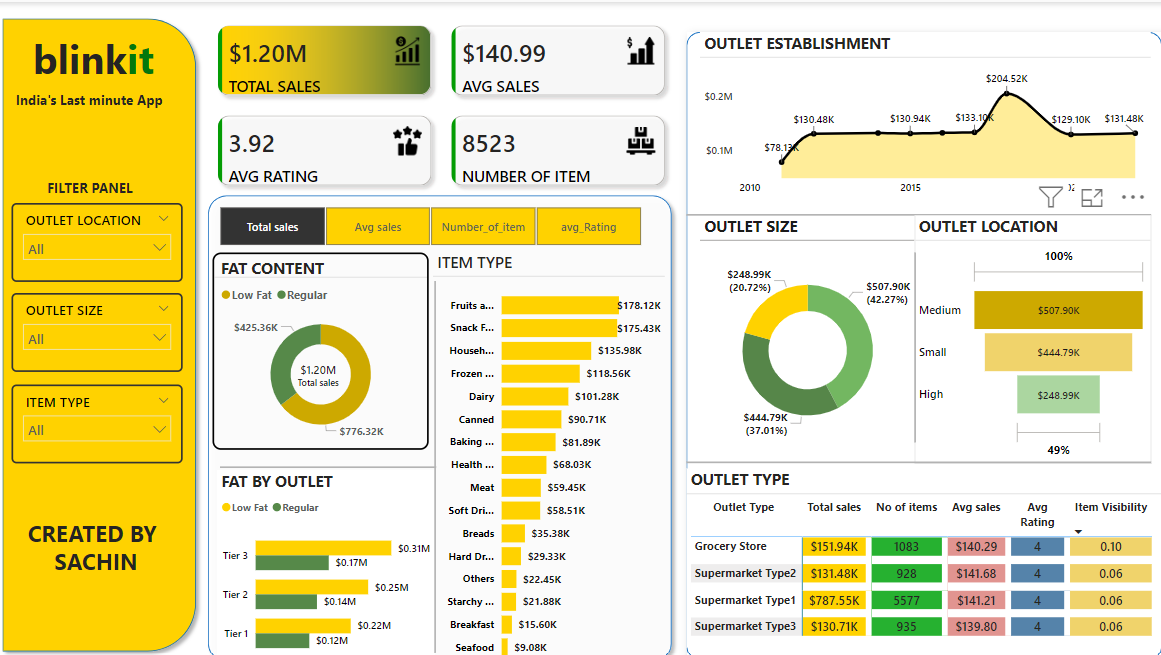

The page's visual inventory and layout, read from the dashboard file:
{"tool":"powerbi","page":{"name":"Page 1","canvas":[1400,800],"ordinal":0},"visuals":[{"type":"textbox","box":[10,0,280,280],"z":0},{"type":"shape","box":[0,10.8,250.1,777.2],"z":1000},{"type":"textbox","box":[10.5,28.1,214,75],"z":2000},{"type":"textbox","box":[19.3,100,210.5,45.6],"z":3000},{"type":"cardVisual","fields":{"Data":["BlinkIT Grocery Data.Total sales","BlinkIT Grocery Data.Avg sales","BlinkIT Grocery Data.avg_Rating","BlinkIT Grocery Data.Number_of_item"]},"box":[250,11.1,570.4,227.8],"z":4000},{"type":"shape","box":[246.3,222.2,574.1,577.8],"z":5000},{"type":"donutChart","title":"FAT CONTENT","fields":{"Y":["BlinkIT Grocery Data.Total sales"],"Category":["BlinkIT Grocery Data.Item Fat Content"]},"box":[261.4,300,259.6,236.8],"z":6000},{"type":"slicer","fields":{"Values":["Parameter.Parameter"]},"box":[244.4,238.9,553.7,59.3],"z":7000},{"type":"clusteredBarChart","title":"ITEM TYPE","fields":{"Y":["BlinkIT Grocery Data.Total sales"],"Category":["BlinkIT Grocery Data.Item Type"]},"box":[525.9,298.1,277.8,501.9],"z":8000},{"type":"clusteredBarChart","title":"FAT BY OUTLET","fields":{"Y":["BlinkIT Grocery Data.Total sales"],"Category":["BlinkIT Grocery Data.Outlet Location Type"],"Series":["BlinkIT Grocery Data.Item Fat Content"]},"box":[266.1,561,261,239],"z":9000},{"type":"shape","box":[269.5,532.2,259.3,50.8],"z":10000},{"type":"shape","box":[501.9,335.2,51.9,446.3],"z":11000},{"type":"shape","box":[829.6,35.2,570.4,753.7],"z":12000},{"type":"lineChart","title":"OUTLET ESTABLISHMENT","fields":{"Category":["BlinkIT Grocery Data.Outlet Establishment Year"],"Y":["BlinkIT Grocery Data.Total sales"]},"box":[846.3,35.2,540.7,203.7],"z":13000},{"type":"shape","box":[829.6,229.6,557.4,50],"z":14000},{"type":"donutChart","title":"OUTLET SIZE","fields":{"Category":["BlinkIT Grocery Data.Outlet Size"],"Y":["BlinkIT Grocery Data.Total sales"]},"box":[845.8,255.9,257.6,293.2],"z":15000},{"type":"funnel","title":"OUTLET LOCATION","fields":{"Category":["BlinkIT Grocery Data.Outlet Size"],"Y":["BlinkIT Grocery Data.Total sales"]},"box":[1103.7,255.6,283.3,298.1],"z":16000},{"type":"shape","box":[829.6,527.8,557.4,50],"z":17000},{"type":"pivotTable","title":"OUTLET TYPE","fields":{"Rows":["BlinkIT Grocery Data.Outlet Type"],"Values":["BlinkIT Grocery Data.Total sales","BlinkIT Grocery Data.Number_of_item","BlinkIT Grocery Data.Avg sales","BlinkIT Grocery Data.avg_Rating","Avg(BlinkIT Grocery Data.Item Visibility)"]},"box":[829.6,559.3,570.4,214.8],"z":18000},{"type":"shape","box":[1077.8,300,51.9,227.8],"z":19000},{"type":"cardVisual","fields":{"Data":["BlinkIT Grocery Data.Total sales"]},"box":[326.3,414,124.6,59.6],"z":20000},{"type":"slicer","fields":{"Values":["BlinkIT Grocery Data.Outlet Location Type"]},"box":[19.3,240.4,205.3,94.7],"z":21000},{"type":"slicer","fields":{"Values":["BlinkIT Grocery Data.Outlet Size"]},"box":[19.3,349.1,205.3,94.7],"z":22000},{"type":"slicer","fields":{"Values":["BlinkIT Grocery Data.Item Type"]},"box":[19.3,459.6,205.3,94.7],"z":23000},{"type":"textbox","box":[33.3,614,173.7,52.6],"z":24000},{"type":"textbox","box":[33.3,647.4,173.7,52.6],"z":25000},{"type":"textbox","box":[57.9,207,129.8,45.6],"z":26000}]}

Visuals, with their boxes in screenshot pixels (x1, y1, x2, y2), scaled from the page's 1400x800 canvas onto the 1161x655 screenshot:
textbox: x1=8, y1=0, x2=240, y2=229
shape: x1=0, y1=9, x2=207, y2=645
textbox: x1=9, y1=23, x2=186, y2=84
textbox: x1=16, y1=82, x2=191, y2=119
cardVisual - BlinkIT Grocery Data.Total sales x BlinkIT Grocery Data.Avg sales: x1=207, y1=9, x2=680, y2=196
shape: x1=204, y1=182, x2=680, y2=654
"FAT CONTENT" donutChart: x1=217, y1=246, x2=432, y2=440
slicer - Parameter.Parameter: x1=203, y1=196, x2=662, y2=244
"ITEM TYPE" clusteredBarChart: x1=436, y1=244, x2=666, y2=654
"FAT BY OUTLET" clusteredBarChart: x1=221, y1=459, x2=437, y2=654
shape: x1=223, y1=436, x2=439, y2=477
shape: x1=416, y1=274, x2=459, y2=640
shape: x1=688, y1=29, x2=1160, y2=646
"OUTLET ESTABLISHMENT" lineChart: x1=702, y1=29, x2=1150, y2=196
shape: x1=688, y1=188, x2=1150, y2=229
"OUTLET SIZE" donutChart: x1=701, y1=210, x2=915, y2=450
"OUTLET LOCATION" funnel: x1=915, y1=209, x2=1150, y2=453
shape: x1=688, y1=432, x2=1150, y2=473
"OUTLET TYPE" pivotTable: x1=688, y1=458, x2=1160, y2=634
shape: x1=894, y1=246, x2=937, y2=432
cardVisual - BlinkIT Grocery Data.Total sales: x1=271, y1=339, x2=374, y2=388
slicer - BlinkIT Grocery Data.Outlet Location Type: x1=16, y1=197, x2=186, y2=274
slicer - BlinkIT Grocery Data.Outlet Size: x1=16, y1=286, x2=186, y2=363
slicer - BlinkIT Grocery Data.Item Type: x1=16, y1=376, x2=186, y2=454
textbox: x1=28, y1=503, x2=172, y2=546
textbox: x1=28, y1=530, x2=172, y2=573
textbox: x1=48, y1=169, x2=156, y2=207
